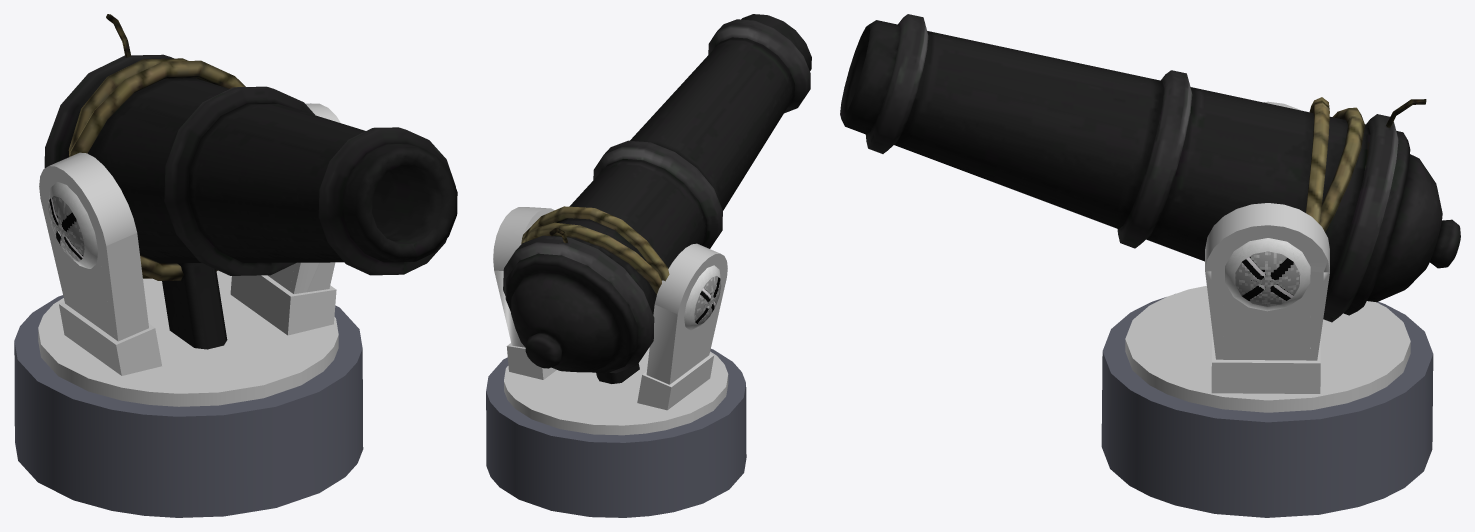
The model's file is Cannon.fbx.
The picture shows the model from 3 angles, left to right: view 1: azimuth 30°, elevation 25°; view 2: azimuth 150°, elevation 25°; view 3: azimuth 270°, elevation 25°; orthographic projection. The views are drawn at different scales.
Parts seen in each view (by area): view 1: Cannon; view 2: Cannon; view 3: Cannon.
Part boxes in pixels (x1=…): Cannon: x1=14, y1=14, x2=457, y2=517; Cannon: x1=486, y1=14, x2=811, y2=517; Cannon: x1=840, y1=14, x2=1460, y2=517.
Size of the model in its own units: 0.7167 by 1.03 by 1.34.
